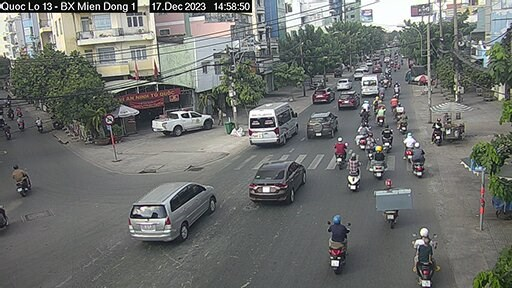car: (129, 171, 223, 237), (235, 161, 316, 207), (233, 99, 303, 147), (151, 107, 217, 137), (311, 111, 341, 149), (358, 73, 388, 98), (335, 73, 359, 96), (310, 88, 338, 106), (340, 88, 361, 111)
motorbike: (369, 171, 407, 233), (402, 226, 443, 281), (325, 207, 350, 270), (346, 151, 368, 187), (331, 131, 348, 162)
